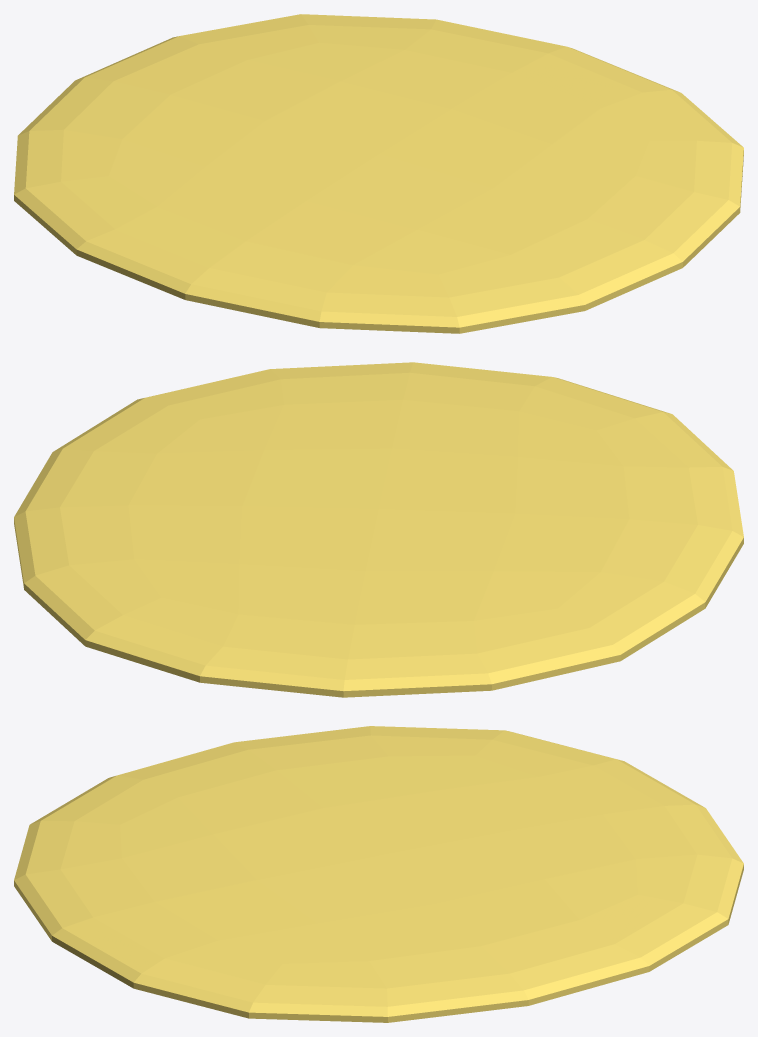
File: Carpet_9.fbx
The picture shows the model from 3 angles, top to bottom: view 1: azimuth 30°, elevation 25°; view 2: azimuth 150°, elevation 25°; view 3: azimuth 270°, elevation 25°; orthographic projection. The views are drawn at different scales.
Parts seen in each view (by area): view 1: Carpet_9; view 2: Carpet_9; view 3: Carpet_9.
Boxes of the visible parts, x1,y1,x2,y2 form: Carpet_9: (14, 14, 743, 333); Carpet_9: (14, 362, 743, 697); Carpet_9: (14, 726, 743, 1022).
Size of the model in its own units: 320 by 340 by 11.58.
